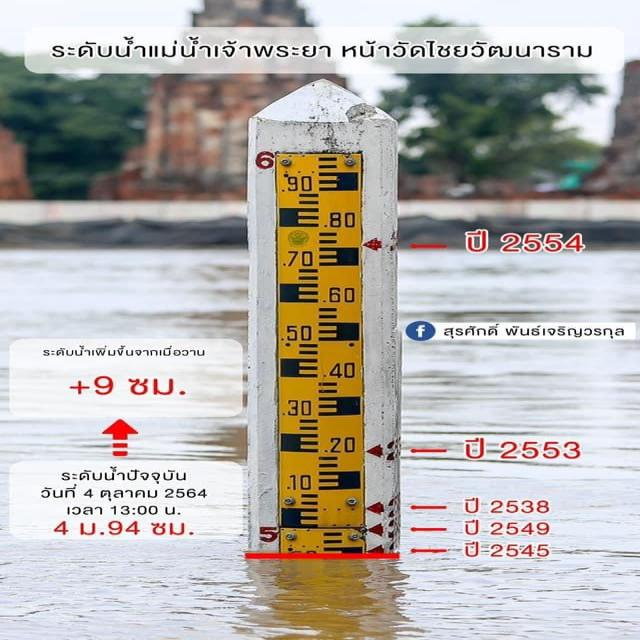ruler: (249, 142, 381, 562)
value: (317, 282, 362, 308), (274, 319, 316, 346), (276, 245, 318, 270), (317, 359, 360, 383), (277, 396, 320, 419), (317, 433, 359, 456), (320, 209, 360, 233), (278, 174, 319, 195), (276, 472, 316, 493), (250, 150, 279, 171), (255, 524, 282, 544)
